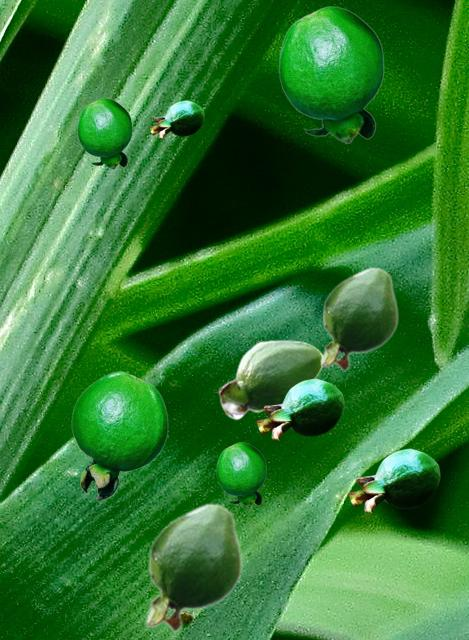guava: (278, 6, 383, 142), (145, 502, 241, 632), (71, 371, 167, 500), (218, 339, 323, 419), (320, 266, 397, 371), (348, 448, 439, 513), (256, 378, 343, 440), (77, 98, 131, 168), (216, 442, 265, 506), (149, 100, 203, 138)
